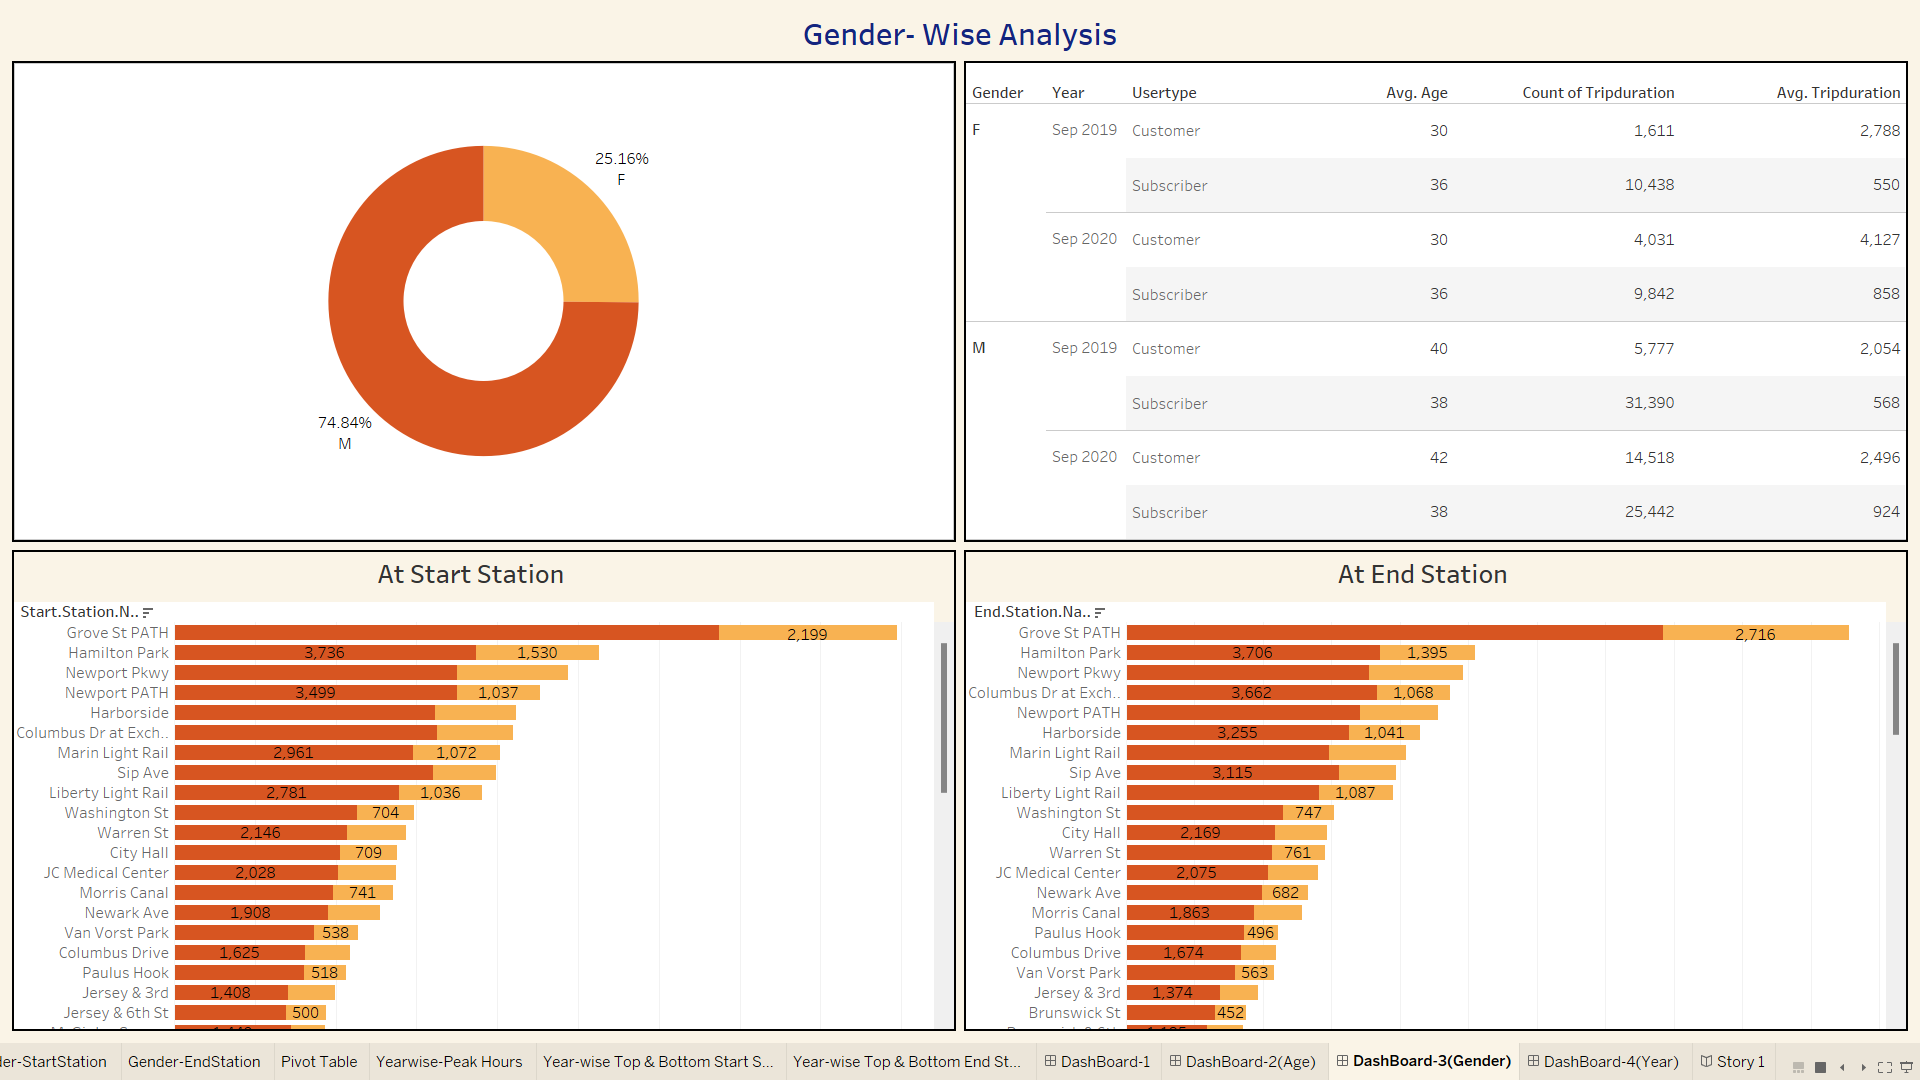

What the dashboard file says about the page in this screenshot:
{"tool":"tableau","page":{"name":"DashBoard-3(Gender)","canvas":[1000,1000],"units":"permille","ordinal":2},"visuals":[{"type":"title","box":[5.5,9.5,989,58.3]},{"type":"worksheet","title":"Gender","mark":"Pie","rows":["Calculation_918734333071646720","Calculation_918734333071646720"],"box":[5.5,67.8,494.4,461.2]},{"type":"worksheet","title":"Gender Categories","mark":"Automatic","rows":["gender","year","usertype"],"box":[499.9,67.8,494.7,461.2]},{"type":"worksheet","title":"Gender-StartStation","mark":"Automatic","rows":["start.station.name"],"cols":["Calculation_1776670060737310723"],"box":[5.5,529,494.4,461.5]},{"type":"worksheet","title":"Gender-EndStation","mark":"Automatic","rows":["end.station.name"],"cols":["Calculation_1776670060737310723"],"box":[499.9,529,494.7,461.5]}]}

Visuals, with their boxes on the dashboard's canvas, which has no fixed pixel size, in thousandths of its width and height (x1, y1, x2, y2). These are canvas units, not pixel positions in the 1920x1080 screenshot, which may show the page scaled, cropped or inside an application window:
title: (6,10,994,68)
"Gender" worksheet (Pie marks): (6,68,500,529)
"Gender Categories" worksheet: (500,68,995,529)
"Gender-StartStation" worksheet: (6,529,500,990)
"Gender-EndStation" worksheet: (500,529,995,990)
